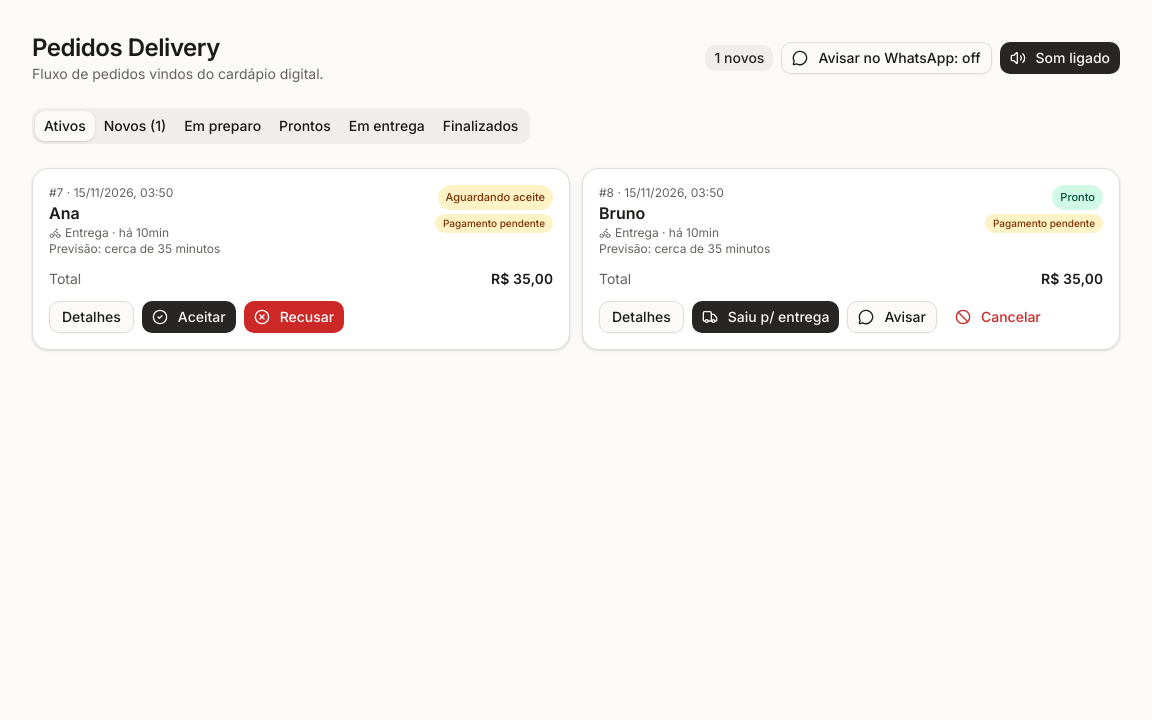
PedidosDelivery › abre os detalhes com itens, endereço e totais
The image size is (1152, 720).
Expected: the text "Ana" is shown, [49, 203, 80, 223]
Click the button "Detalhes" below "Ana": (91, 317) [49, 301, 134, 333]
(page scrolled)
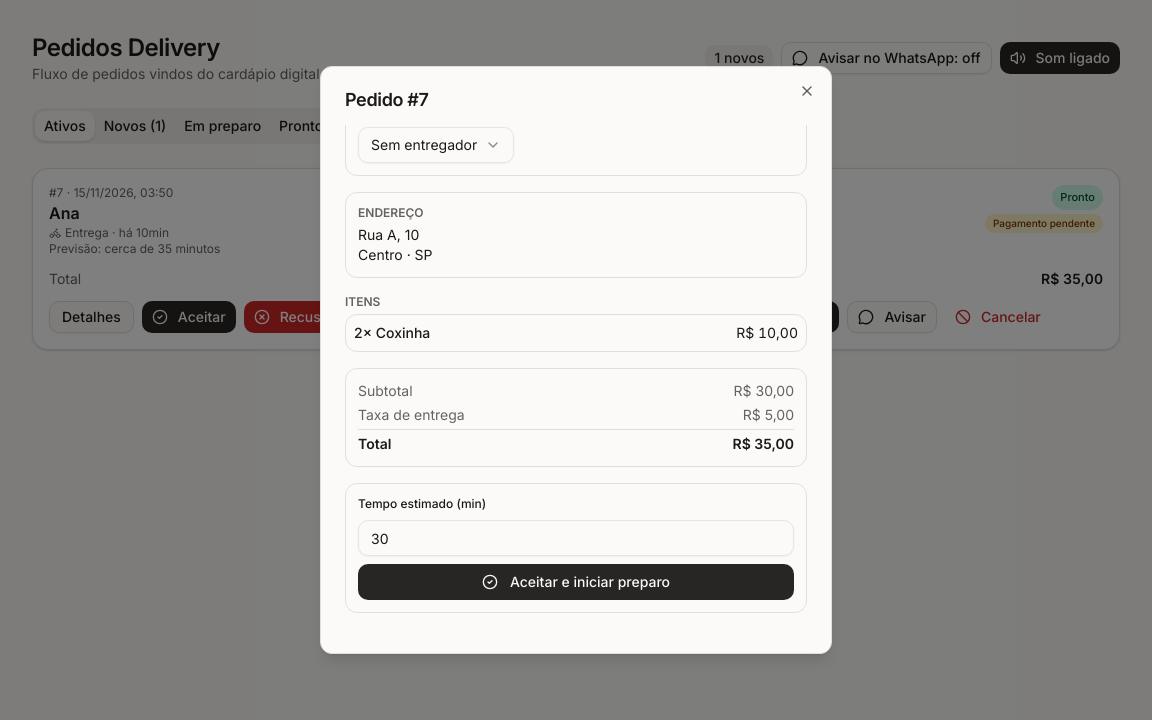
Result: the dialog shows "Pedido #7" at [320, 66, 832, 654]
Result: the text "2× Coxinha" is shown at [354, 323, 430, 343]
Result: the text "Rua A, 10" is shown at [358, 226, 419, 243]
